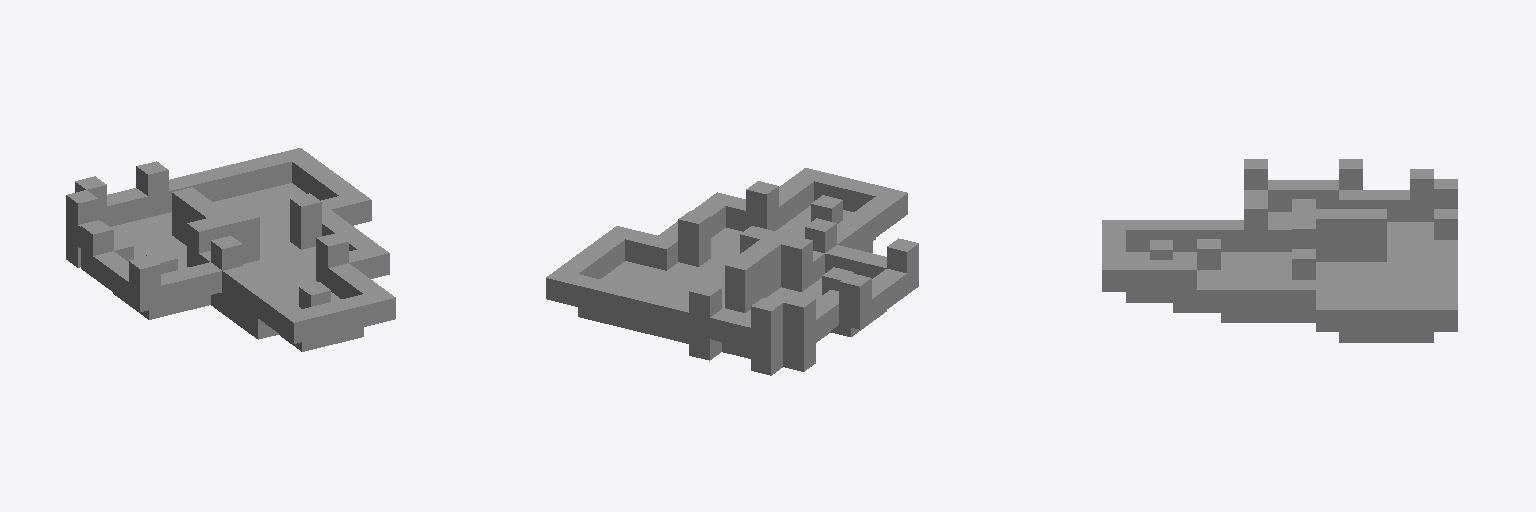
The model's file is level1.obj.
3 views of the same model, side by side, from view 1: azimuth 30°, elevation 25°; view 2: azimuth 150°, elevation 25°; view 3: azimuth 270°, elevation 25° (orthographic).
Visible parts, largest first — view 1: Cube.203_Cube.205, Cube.206_Cube.208, Cube.144, Cube.202_Cube.204, Cube.204_Cube.206, Cube.151, Cube.167_Cube.169, Cube.109, Cube.039, Cube.183_Cube.185, Cube.200_Cube.202, Cube.185_Cube.187 (+17 smaller); view 2: Cube.206_Cube.208, Cube.203_Cube.205, Cube.144, Cube.151, Cube.109, Cube.202_Cube.204, Cube.141, Cube.039, Cube.148, Cube.175_Cube.177, Cube.204_Cube.206, Start_Cube.159 (+21 smaller); view 3: Cube.197_Cube.199, Cube.182_Cube.184, Cube.181_Cube.183, Cube.179_Cube.181, Cube.178_Cube.180, Cube.174_Cube.176, Cube.173_Cube.175, Cube.172_Cube.174, Cube.170_Cube.172, Cube.168_Cube.170, Cube.163_Cube.165, Cube.159_Cube.161 (+26 smaller).
Part boxes in pixels (x1,y1,x2,y2): Cube.203_Cube.205: (81, 221, 113, 255); Cube.206_Cube.208: (316, 233, 348, 267); Cube.144: (136, 161, 168, 195); Cube.202_Cube.204: (129, 256, 160, 290); Cube.204_Cube.206: (211, 236, 242, 270); Cube.151: (66, 190, 97, 224); Cube.167_Cube.169: (282, 309, 313, 343); Cube.109: (290, 193, 321, 227); Cube.039: (187, 218, 218, 252); Cube.183_Cube.185: (260, 153, 291, 187); Cube.200_Cube.202: (170, 267, 201, 301); Cube.185_Cube.187: (219, 163, 250, 197); Cube.206_Cube.208: (746, 181, 778, 215); Cube.203_Cube.205: (839, 273, 871, 307); Cube.144: (689, 283, 721, 317); Cube.151: (783, 294, 815, 328); Cube.109: (678, 211, 710, 245); Cube.202_Cube.204: (887, 238, 918, 272); Cube.141: (725, 257, 756, 291); Cube.039: (781, 236, 812, 270); Cube.148: (751, 298, 782, 332); Cube.175_Cube.177: (646, 236, 677, 270); Cube.204_Cube.206: (805, 218, 836, 252); Start_Cube.159: (811, 195, 842, 223); Cube.197_Cube.199: (1268, 180, 1291, 211); Cube.182_Cube.184: (1434, 300, 1457, 331); Cube.181_Cube.183: (1410, 300, 1433, 331); Cube.179_Cube.181: (1363, 300, 1386, 331); Cube.178_Cube.180: (1339, 300, 1362, 331); Cube.174_Cube.176: (1292, 280, 1315, 311); Cube.173_Cube.175: (1268, 280, 1291, 311); Cube.172_Cube.174: (1244, 280, 1267, 311); Cube.170_Cube.172: (1197, 280, 1220, 311); Cube.168_Cube.170: (1126, 220, 1149, 251); Cube.163_Cube.165: (1102, 260, 1125, 291); Cube.159_Cube.161: (1126, 260, 1149, 291).
Size of the model in its own units: 13 by 3 by 15.